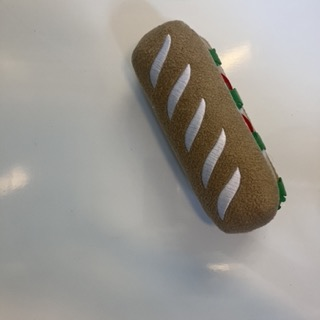sandwich: (133, 20, 286, 233)
